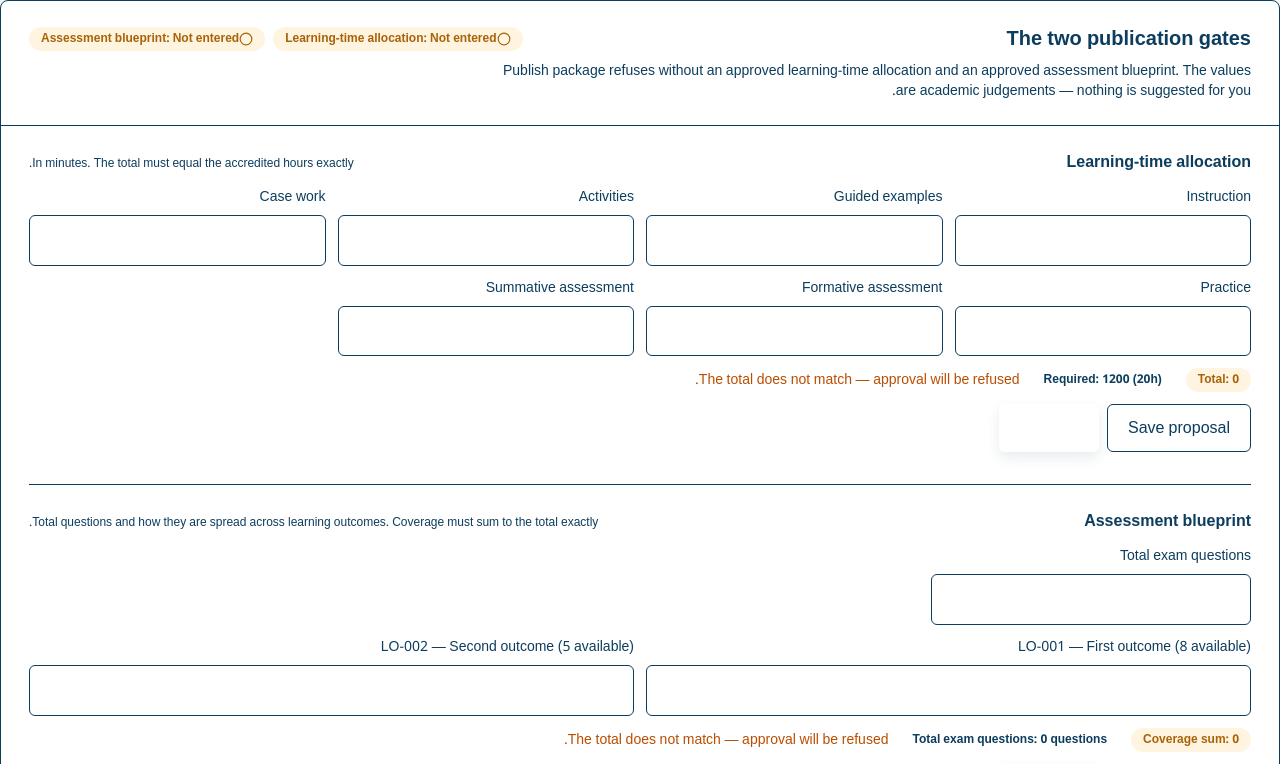
it: PublicationGatesPanel › warns when coverage does not sum to the total
The image size is (1280, 764).
Type "30" into the number field labelled "Total exam questions".
click(1091, 600); type("30")  # box [931,574,1251,625]
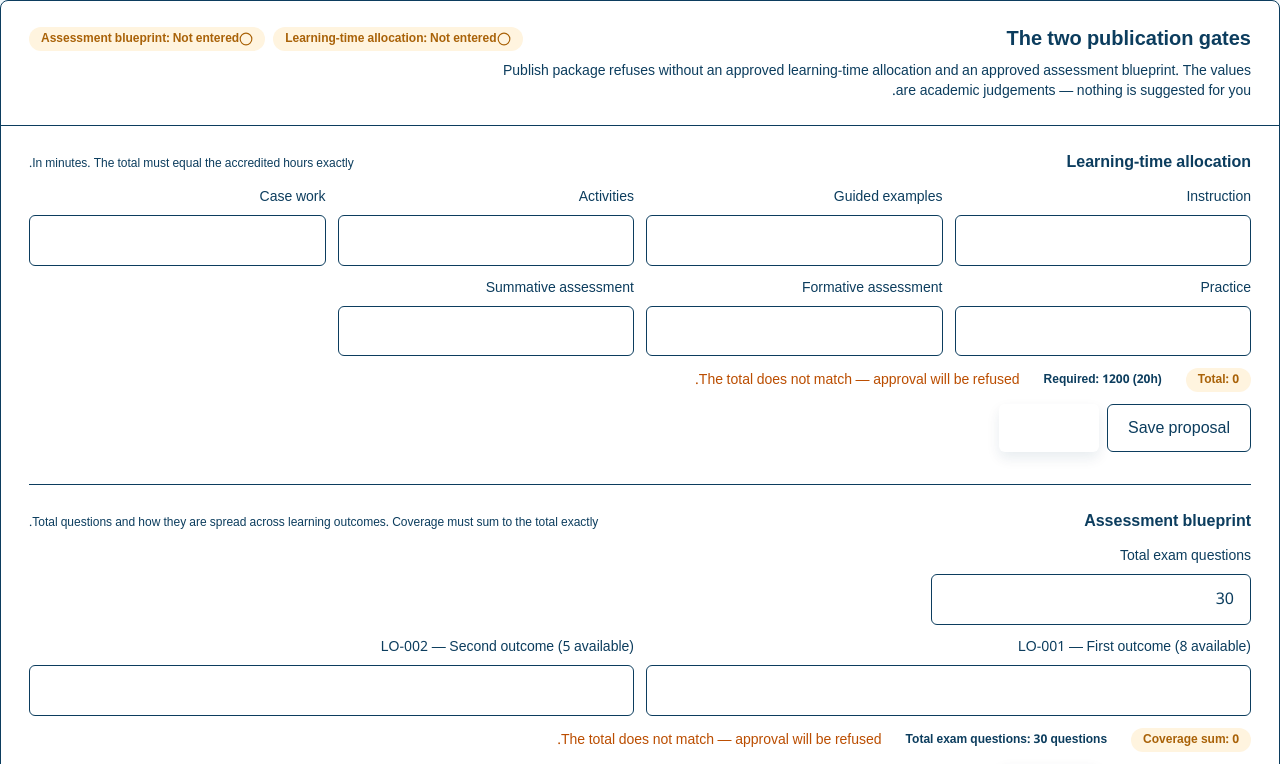
Type "10" into the number field labelled "LO-001 — First outcome (8 available)".
click(948, 690); type("10")  # box [646,665,1251,716]
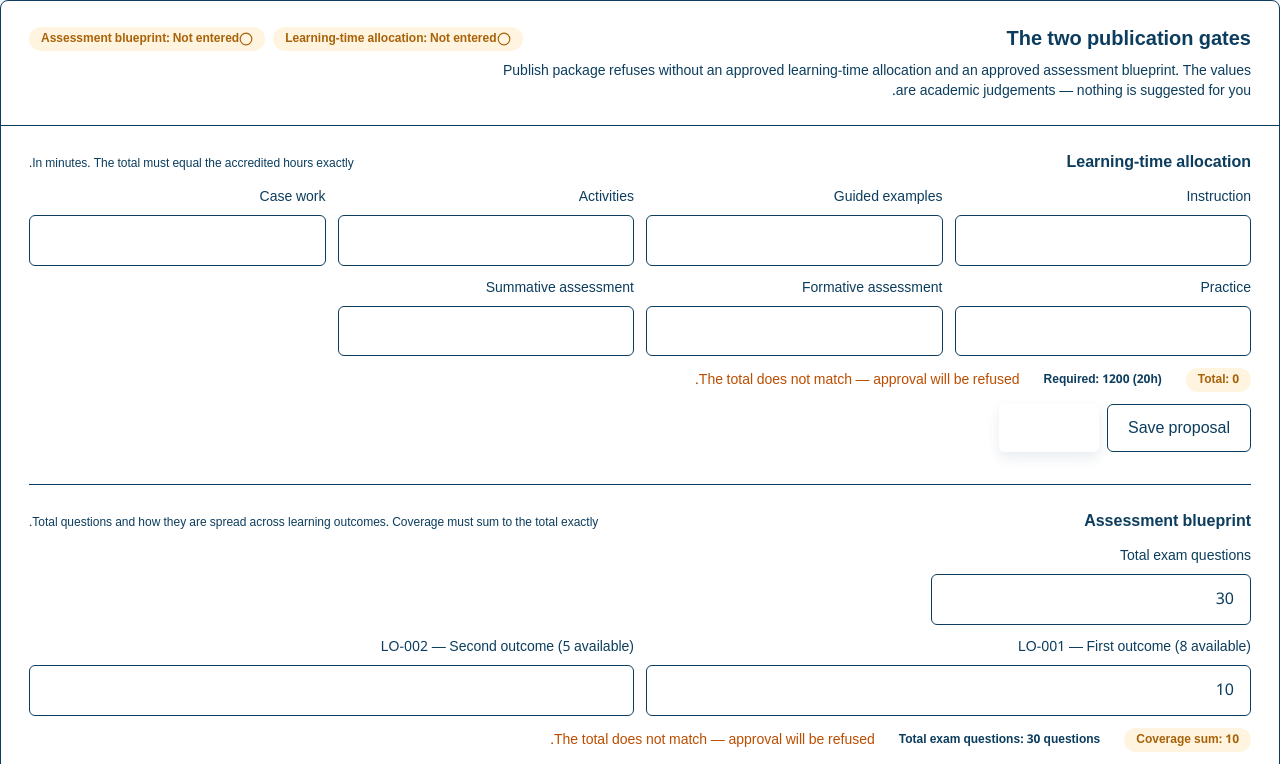
Expected: the text "The total does not match — approval will be refused." in the row of "30" is shown, [550,725,875,754]
Expected: the text "Coverage sum: 10" is shown, [1124,728,1251,752]
